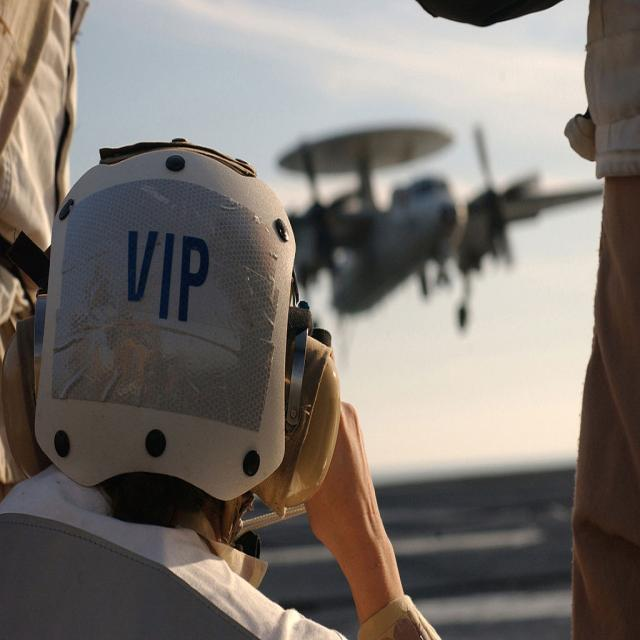MIL_Plane: (270, 136, 604, 340)
